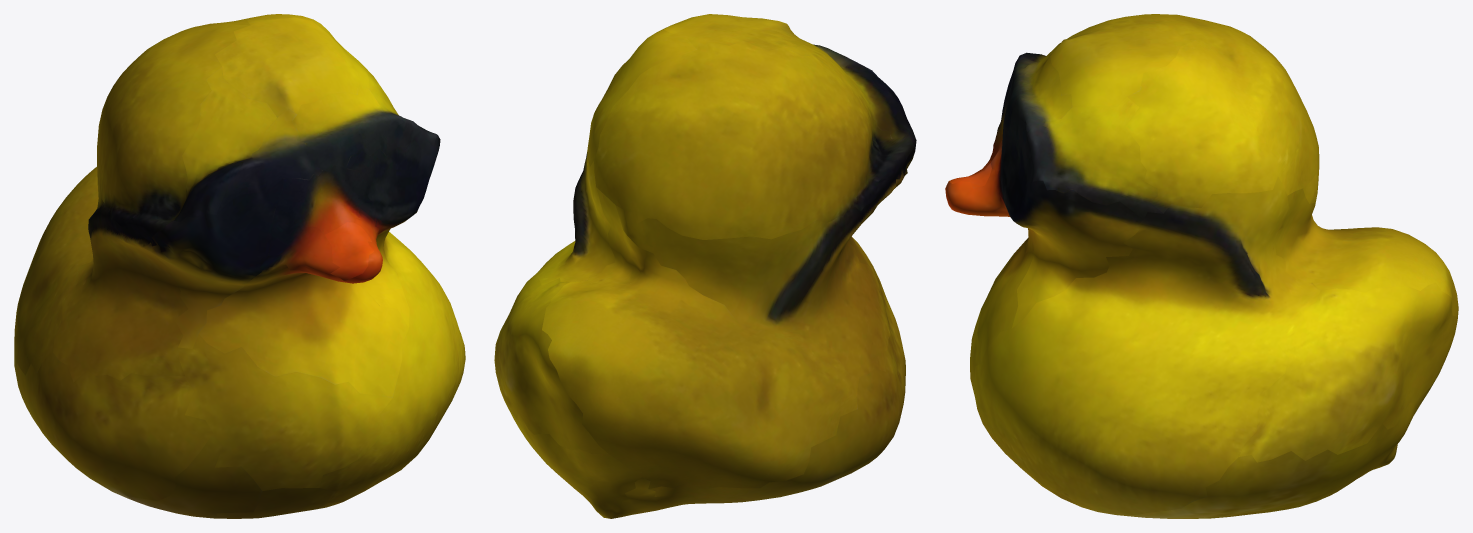
Rendered from PollitoCool.glb.
The picture shows the model from 3 angles, left to right: view 1: azimuth 30°, elevation 25°; view 2: azimuth 150°, elevation 25°; view 3: azimuth 270°, elevation 25°; orthographic projection. The views are drawn at different scales.
Visible parts, largest first — view 1: Mesh_0.002; view 2: Mesh_0.002; view 3: Mesh_0.002.
Boxes of the visible parts, x1=… form: Mesh_0.002: x1=14, y1=14, x2=465, y2=518; Mesh_0.002: x1=494, y1=14, x2=916, y2=518; Mesh_0.002: x1=945, y1=14, x2=1458, y2=518.
Size of the model in its own units: 0.2994 by 0.3448 by 0.3499.
Materials: 1 (1 with a texture image).
